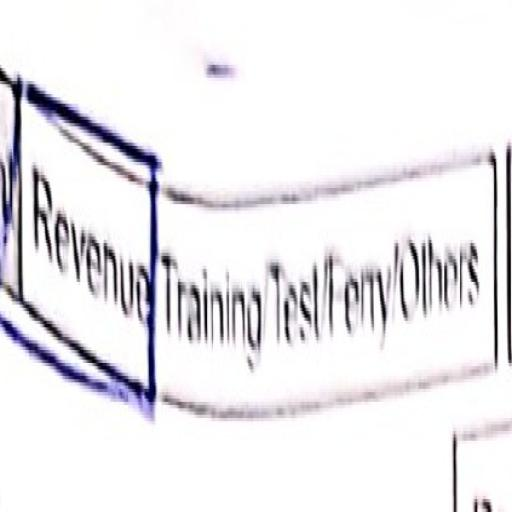check: (23, 55, 155, 483)
